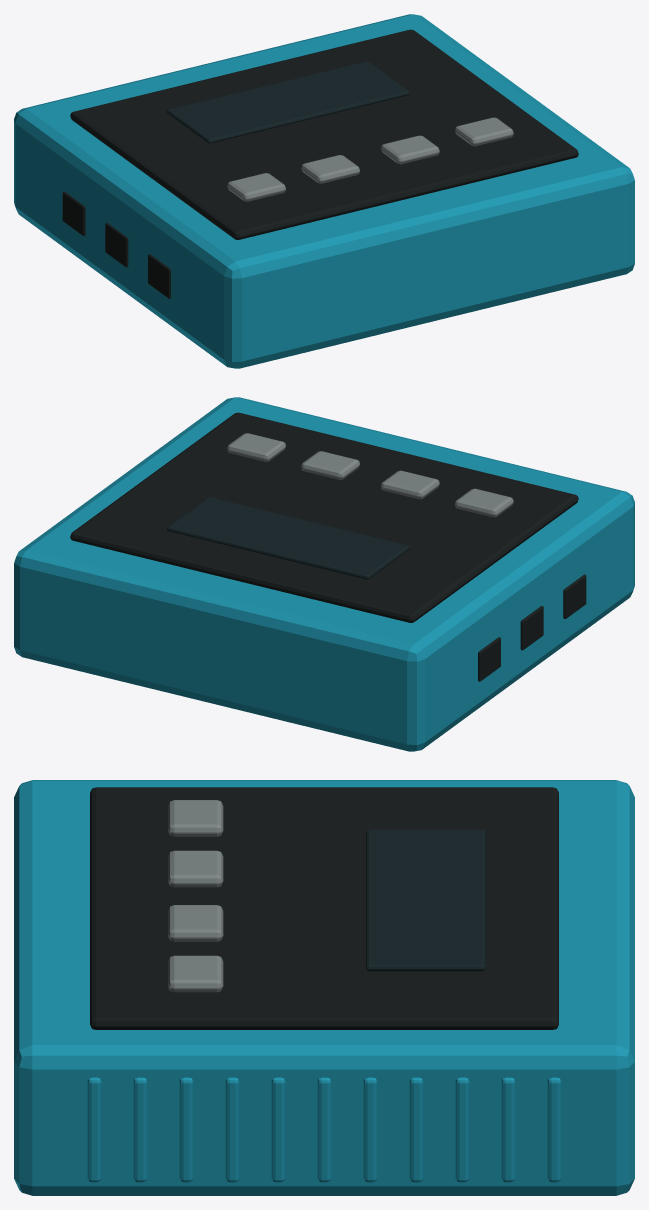
The picture shows the model from 3 angles, top to bottom: view 1: azimuth 30°, elevation 25°; view 2: azimuth 150°, elevation 25°; view 3: azimuth 270°, elevation 25°; orthographic projection. The views are drawn at different scales.
Parts seen in each view (by area): view 1: Blue flat charger body, Black top panel, Unlit top screen, Unlabelled top key; view 2: Blue flat charger body, Black top panel, Unlit top screen, Unlabelled top key; view 3: Blue flat charger body, Black top panel, Unlit top screen, Unlabelled top key.
Boxes of the visible parts, bbox=[...] form: Blue flat charger body: bbox=[14, 14, 634, 368]; Black top panel: bbox=[62, 29, 578, 298]; Unlit top screen: bbox=[167, 61, 409, 143]; Unlabelled top key: bbox=[227, 117, 513, 201]; Blue flat charger body: bbox=[14, 397, 634, 751]; Black top panel: bbox=[70, 412, 586, 681]; Unlit top screen: bbox=[167, 497, 409, 579]; Unlabelled top key: bbox=[227, 433, 513, 517]; Blue flat charger body: bbox=[14, 780, 634, 1195]; Black top panel: bbox=[90, 787, 558, 1029]; Unlit top screen: bbox=[366, 829, 485, 971]; Unlabelled top key: bbox=[168, 800, 223, 992].
Size of the model in its own units: 0.1475 by 0.0415 by 0.135.
